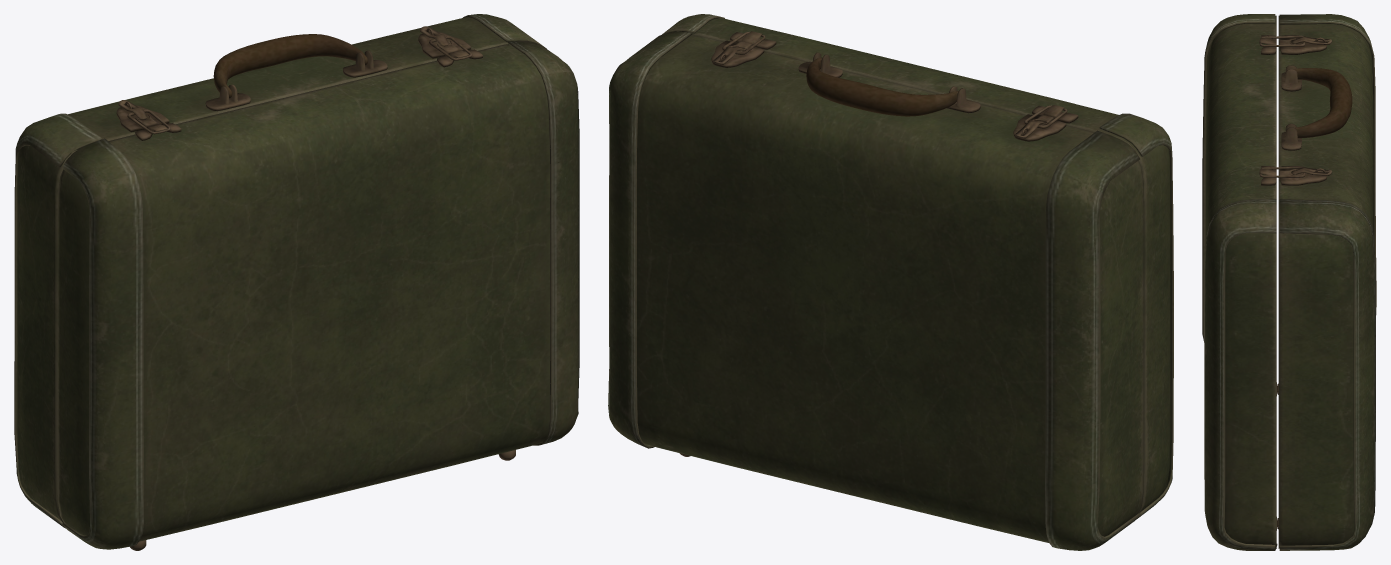
File: vintage_suitcase.glb
3 views of the same model, side by side, from view 1: azimuth 30°, elevation 25°; view 2: azimuth 150°, elevation 25°; view 3: azimuth 270°, elevation 25° (orthographic). The views are drawn at different scales.
Visible parts, largest first — view 1: vintage_suitcase_01_top, vintage_suitcase_01_bottom, vintage_suitcase_01_handle; view 2: vintage_suitcase_01_bottom, vintage_suitcase_01_top, vintage_suitcase_01_handle; view 3: vintage_suitcase_01_bottom, vintage_suitcase_01_top, vintage_suitcase_01_handle, vintage_suitcase_01_clasp.
Part boxes in pixels (x1,y1,x2,y2): vintage_suitcase_01_top: (57,40,579,550); vintage_suitcase_01_bottom: (14,14,546,528); vintage_suitcase_01_handle: (213,34,367,98); vintage_suitcase_01_bottom: (608,32,1144,550); vintage_suitcase_01_top: (662,14,1173,519); vintage_suitcase_01_handle: (806,57,958,116); vintage_suitcase_01_bottom: (1277,14,1376,550); vintage_suitcase_01_top: (1202,14,1278,550); vintage_suitcase_01_handle: (1294,68,1352,138); vintage_suitcase_01_clasp: (1259,35,1305,177).
Size of the model in its own units: 0.6938 by 0.5679 by 0.2392.
Materials: 1 (1 with a texture image).
